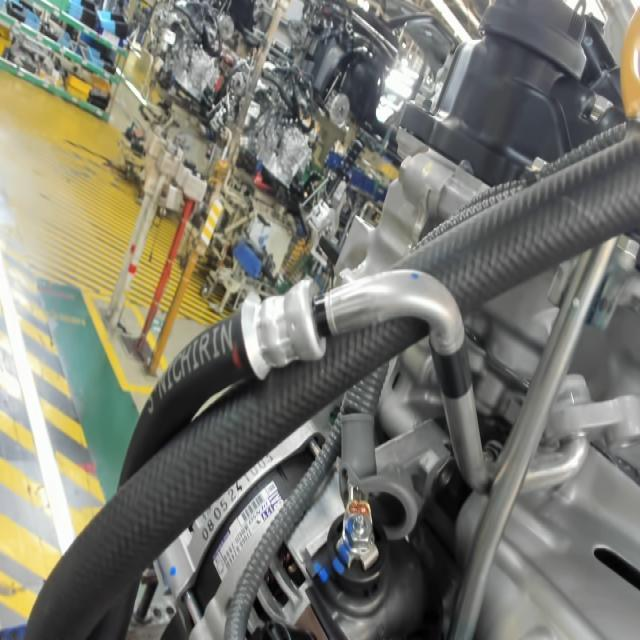Alternator-BA1: (260, 482, 284, 522)
Hose Discharge-HT: (429, 334, 476, 402)
